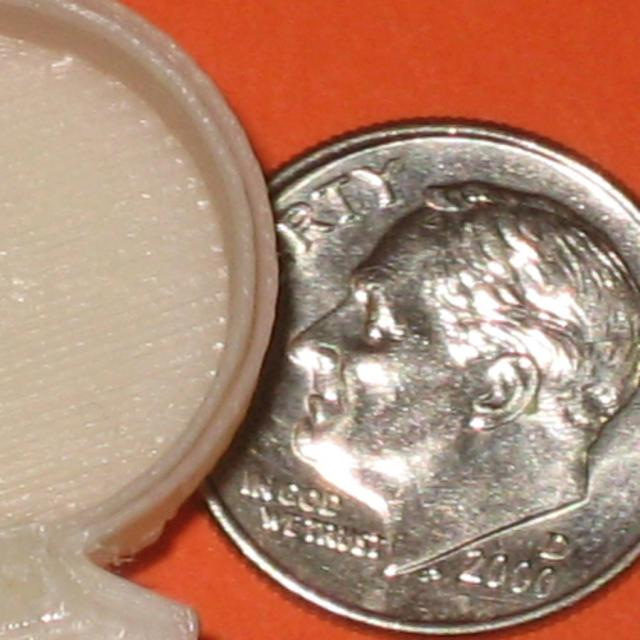Coin: (194, 122, 638, 636)
